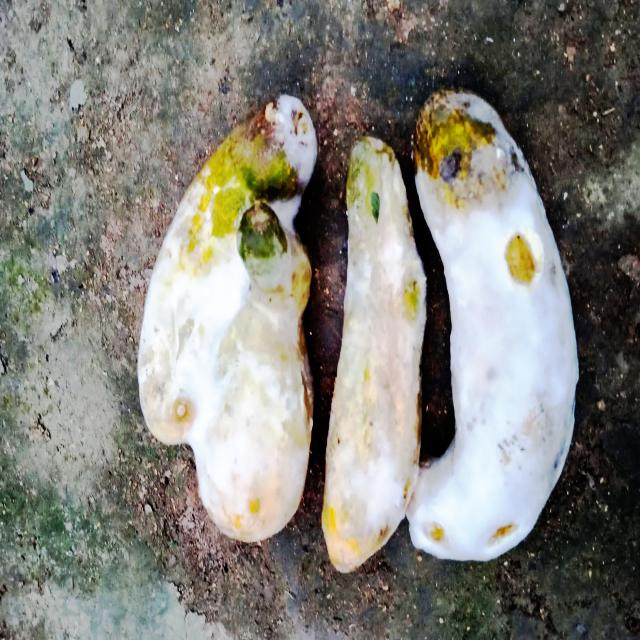Pythium-Fruit-Rot: (140, 88, 582, 559)
